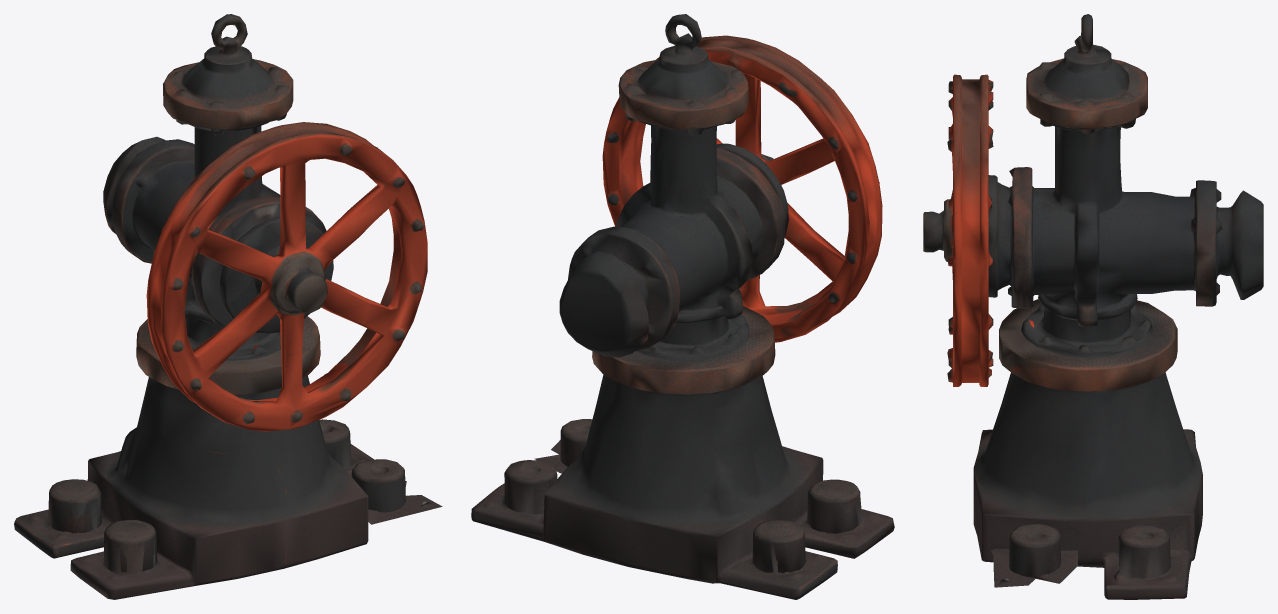
Rendered from PipeValve.fbx.
3 views of the same model, side by side, from view 1: azimuth 30°, elevation 25°; view 2: azimuth 150°, elevation 25°; view 3: azimuth 270°, elevation 25° (orthographic).
Parts seen in each view (by area): view 1: mesh_node; view 2: mesh_node; view 3: mesh_node.
Boxes of the visible parts, <box> form: mesh_node: <box>14,14,442,599</box>; mesh_node: <box>471,14,894,599</box>; mesh_node: <box>923,14,1263,599</box>.
Size of the model in its own units: 130 by 191 by 116.
1 material, 1 textured.
